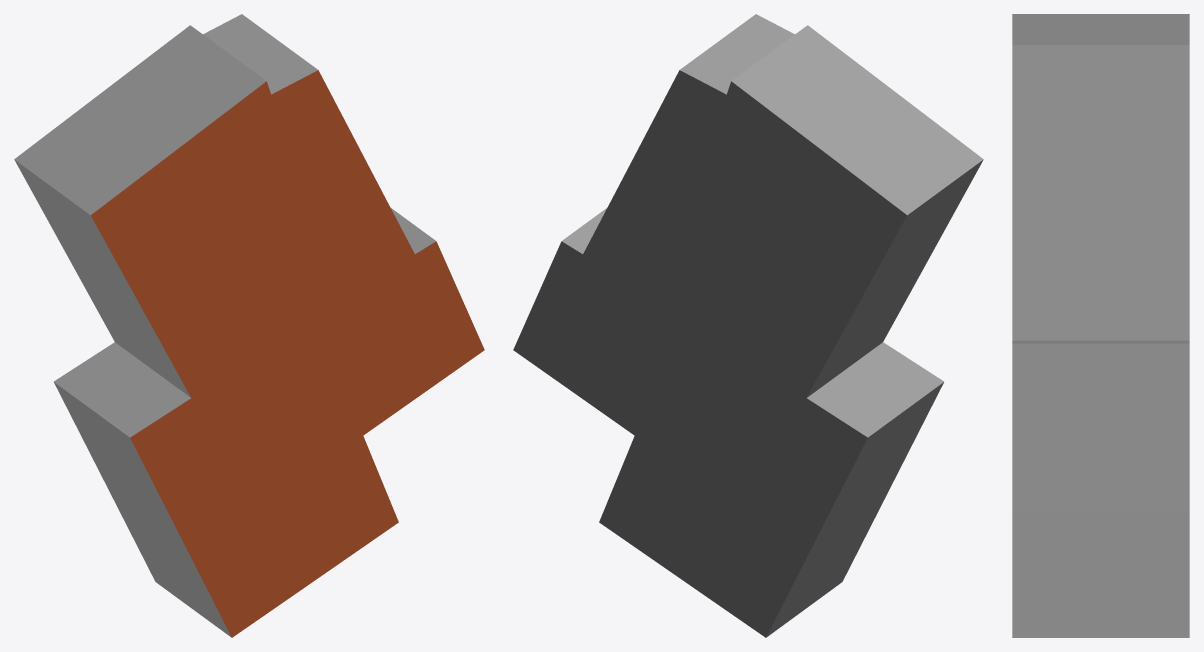
Rendered from construction_2307_assumed_A_Casa_h6m.obj.
The picture shows the model from 3 angles, left to right: view 1: azimuth 30°, elevation 25°; view 2: azimuth 150°, elevation 25°; view 3: azimuth 270°, elevation 25°; orthographic projection. The views are drawn at different scales.
Visible parts, largest first — view 1: construction_2307_assumed_A_Casa; view 2: construction_2307_assumed_A_Casa; view 3: construction_2307_assumed_A_Casa.
Part boxes in pixels (x1,y1,x2,y2): construction_2307_assumed_A_Casa: (14,14,484,637); construction_2307_assumed_A_Casa: (513,14,983,637); construction_2307_assumed_A_Casa: (1012,14,1189,637).
Bounding box in the file's own units: 17.84 × 23.72 × 6.
